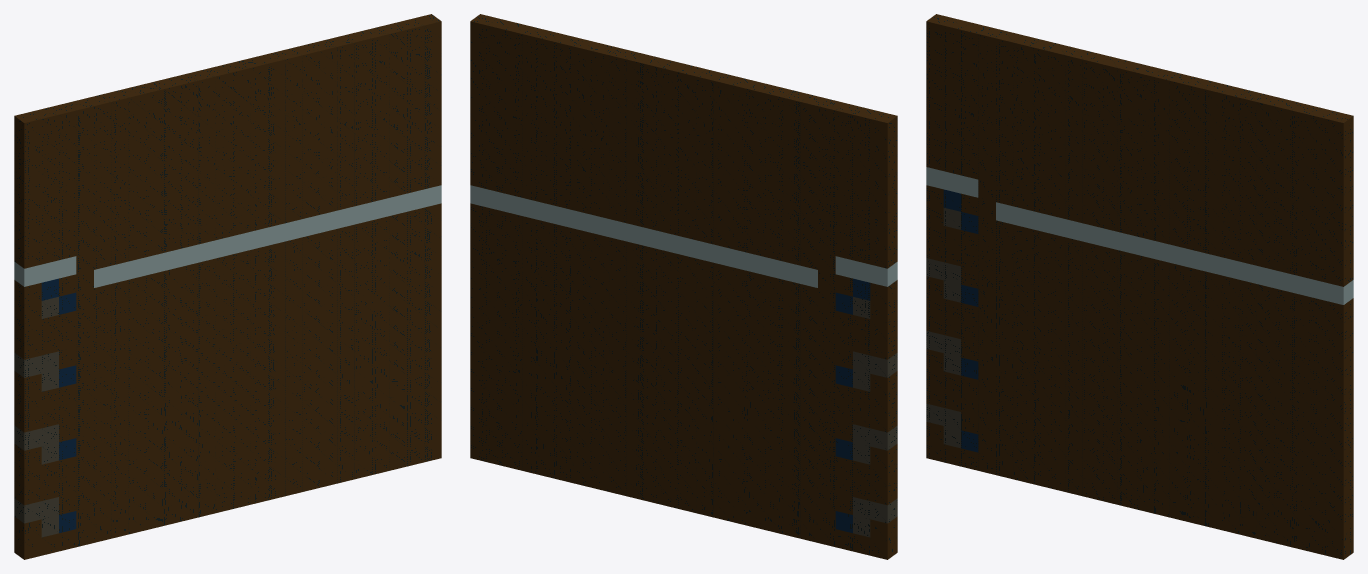
3 renders of one model, left to right at view 1: azimuth 30°, elevation 25°; view 2: azimuth 150°, elevation 25°; view 3: azimuth 330°, elevation 25°, orthographic.
Bounding box in the file's own units: 2.4 × 2.4 × 0.1.
